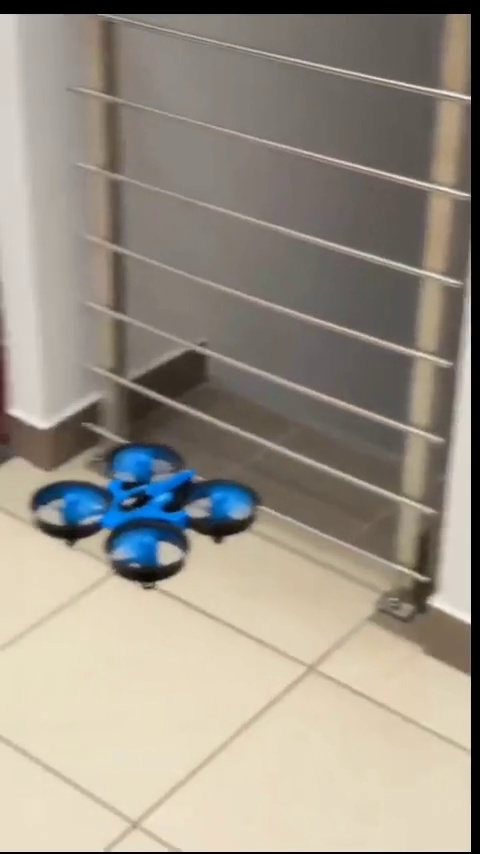drone: (30, 434, 262, 591)
